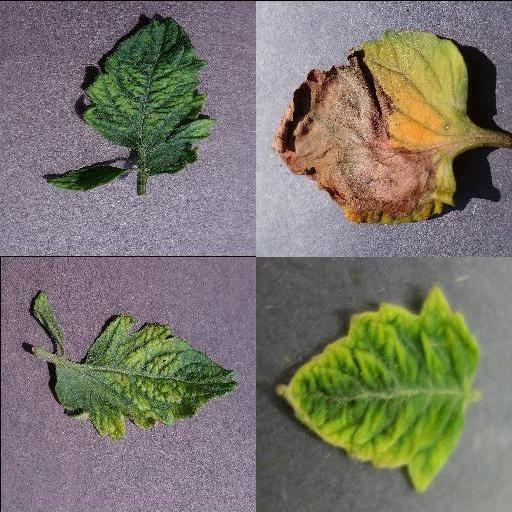Late Blight: (271, 26, 469, 222)
Mosaic Virus: (54, 311, 240, 445), (79, 12, 217, 174), (43, 161, 127, 191), (29, 285, 65, 349)
Yellow Leaf Curl Virus: (273, 284, 481, 491)
